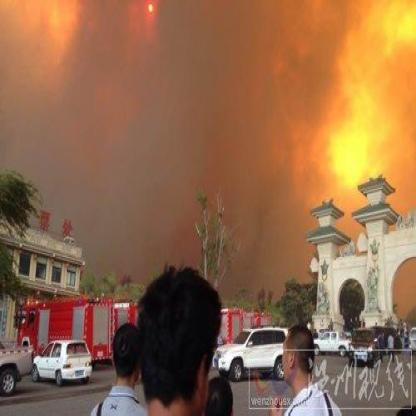smoke: (0, 3, 414, 266)
